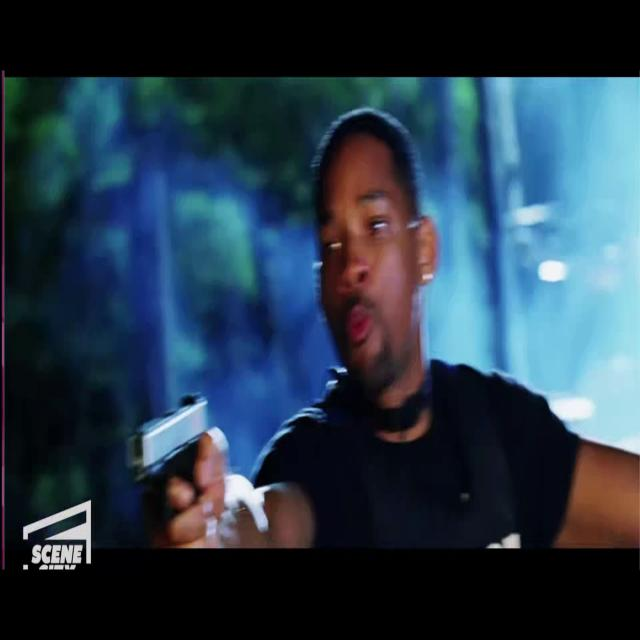weapons: (115, 382, 226, 550)
